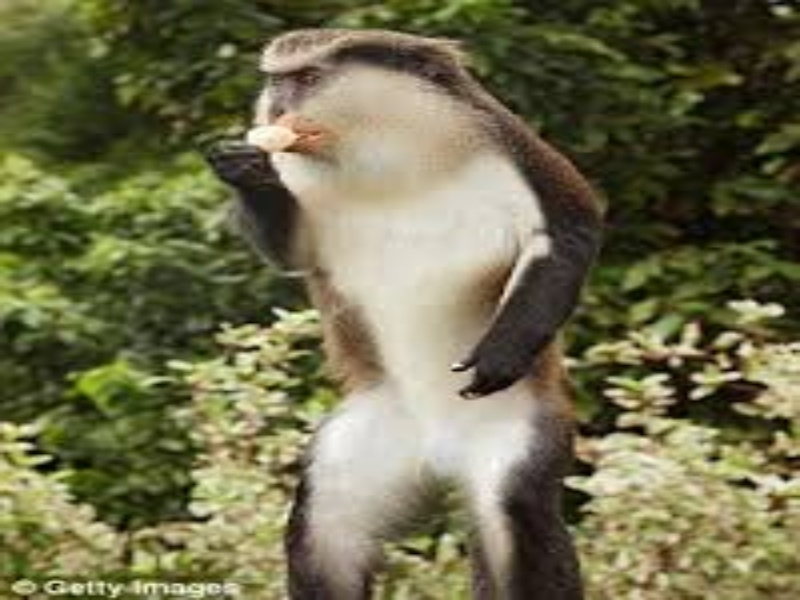monkey: (205, 30, 617, 577)
